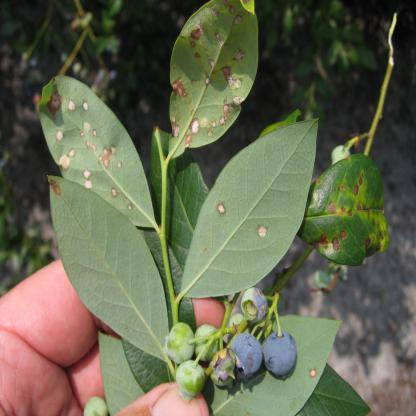Blueberry leaf: (176, 118, 329, 302), (42, 174, 180, 366)
